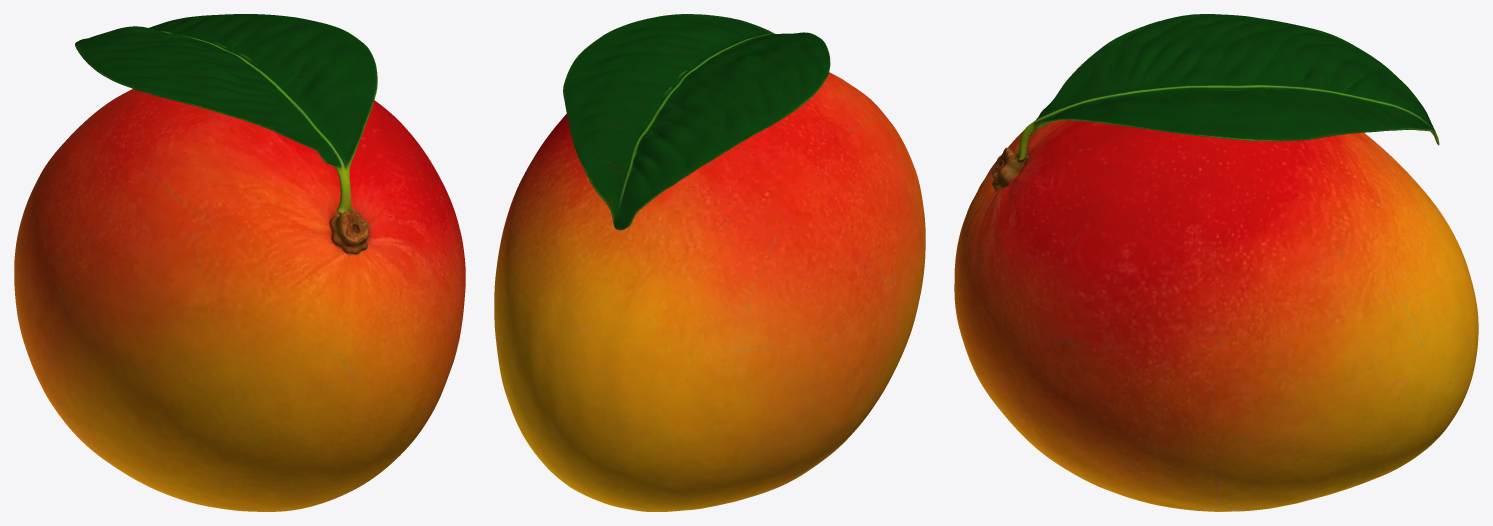
The model's file is mango.glb.
3 views of the same model, side by side, from view 1: azimuth 30°, elevation 25°; view 2: azimuth 150°, elevation 25°; view 3: azimuth 270°, elevation 25° (orthographic). The views are drawn at different scales.
Visible parts, largest first — view 1: Mesh_0; view 2: Mesh_0; view 3: Mesh_0.
Boxes of the visible parts, bbox=[...] form: Mesh_0: bbox=[14, 14, 465, 511]; Mesh_0: bbox=[494, 14, 925, 511]; Mesh_0: bbox=[954, 14, 1478, 511].
Size of the model in its own units: 1.51 by 1.7 by 1.9.
Materials: 1 (1 with a texture image).
